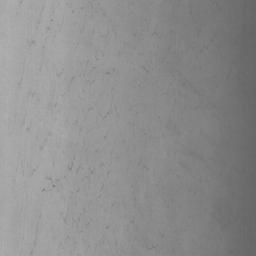Silk spot: (46, 177, 60, 188)
